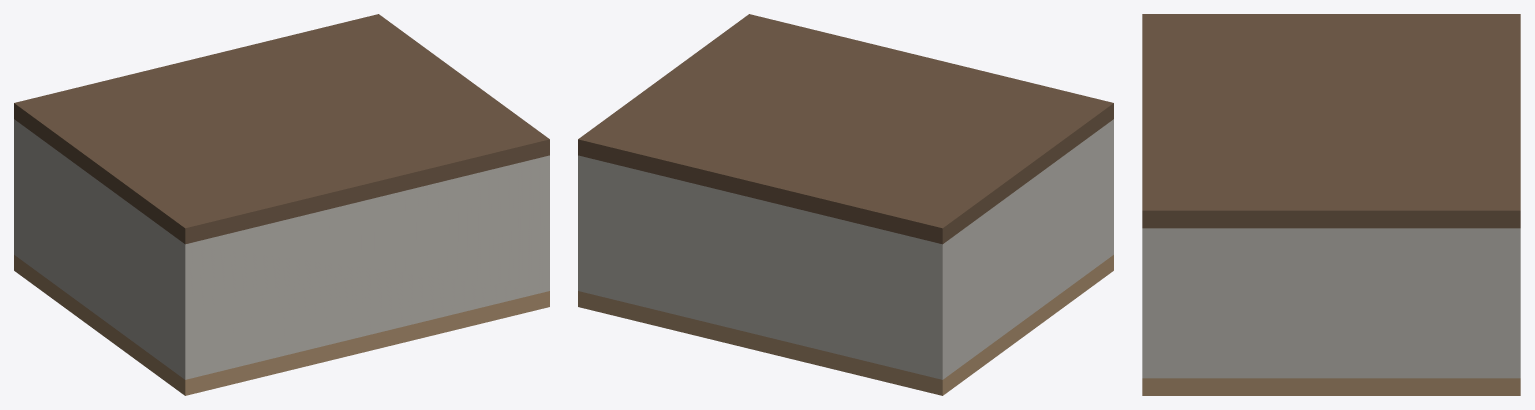
The model's file is casa_alcalde.glb.
3 views of the same model, side by side, from view 1: azimuth 30°, elevation 25°; view 2: azimuth 150°, elevation 25°; view 3: azimuth 270°, elevation 25° (orthographic). The views are drawn at different scales.
Visible parts, largest first — view 1: Techo_interior, Pared_sur, Pared_oeste, Suelo, Pared_norte; view 2: Techo_interior, Pared_norte, Pared_oeste, Suelo, Pared_sur; view 3: Techo_interior, Pared_este, Suelo, Pared_norte, Pared_sur.
Part boxes in pixels (x1,y1,x2,y2): Techo_interior: [14, 14, 549, 244]; Pared_sur: [176, 155, 549, 379]; Pared_oeste: [23, 126, 176, 372]; Suelo: [14, 255, 549, 395]; Pared_norte: [14, 119, 22, 260]; Techo_interior: [578, 14, 1113, 244]; Pared_norte: [578, 155, 951, 379]; Pared_oeste: [951, 126, 1104, 372]; Suelo: [578, 255, 1113, 395]; Pared_sur: [1105, 119, 1113, 260]; Techo_interior: [1142, 14, 1520, 228]; Pared_este: [1162, 228, 1500, 378]; Suelo: [1142, 378, 1520, 395]; Pared_norte: [1501, 228, 1520, 378]; Pared_sur: [1142, 228, 1161, 378].
Size of the model in its own units: 10.7 by 4.7 by 8.7.
